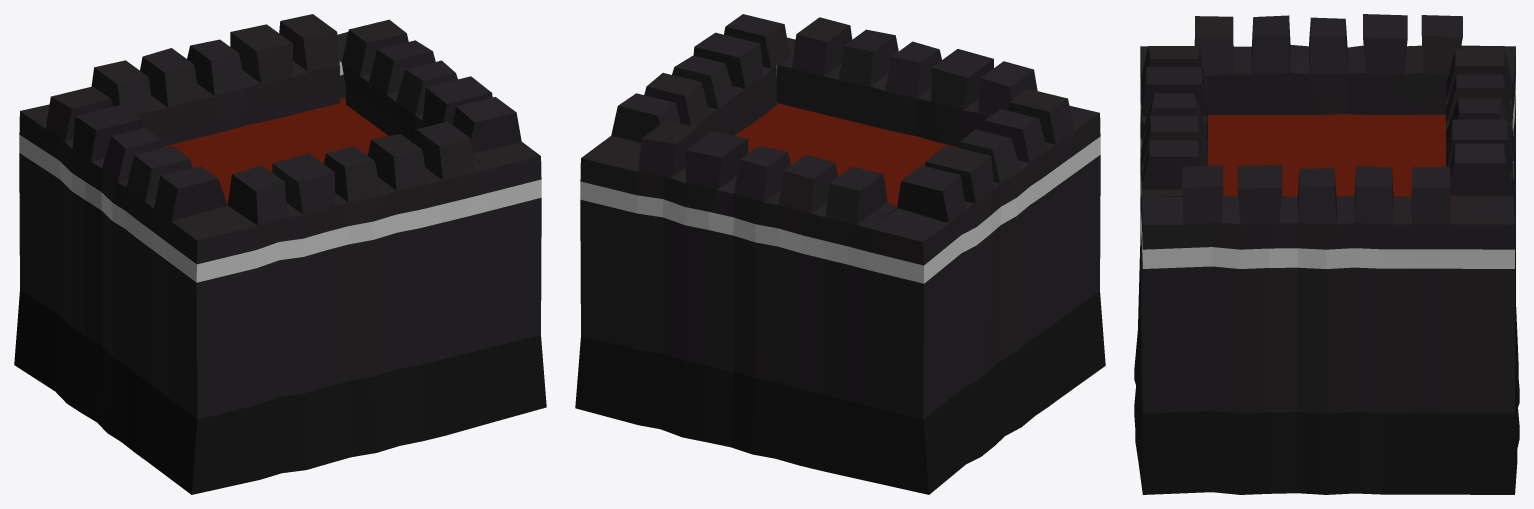
The model's file is stone_tower.obj.
3 renders of one model, left to right at view 1: azimuth 30°, elevation 25°; view 2: azimuth 150°, elevation 25°; view 3: azimuth 270°, elevation 25°, orthographic. The views are drawn at different scales.
Parts seen in each view (by area): view 1: stone_tower; view 2: stone_tower; view 3: stone_tower.
Boxes of the visible parts, x1,y1,x2,y2 form: stone_tower: [14, 14, 546, 494]; stone_tower: [575, 14, 1105, 494]; stone_tower: [1134, 14, 1519, 494].
Size of the model in its own units: 1.62 by 1.25 by 1.44.
